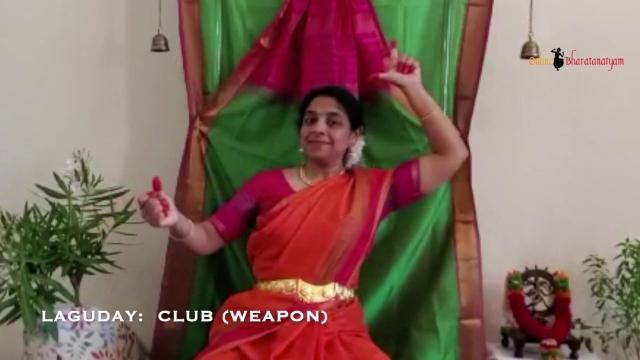chandrakala: (365, 38, 441, 100)
